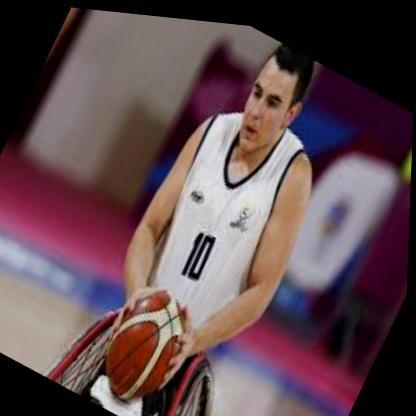basketball: (89, 272, 202, 416)
